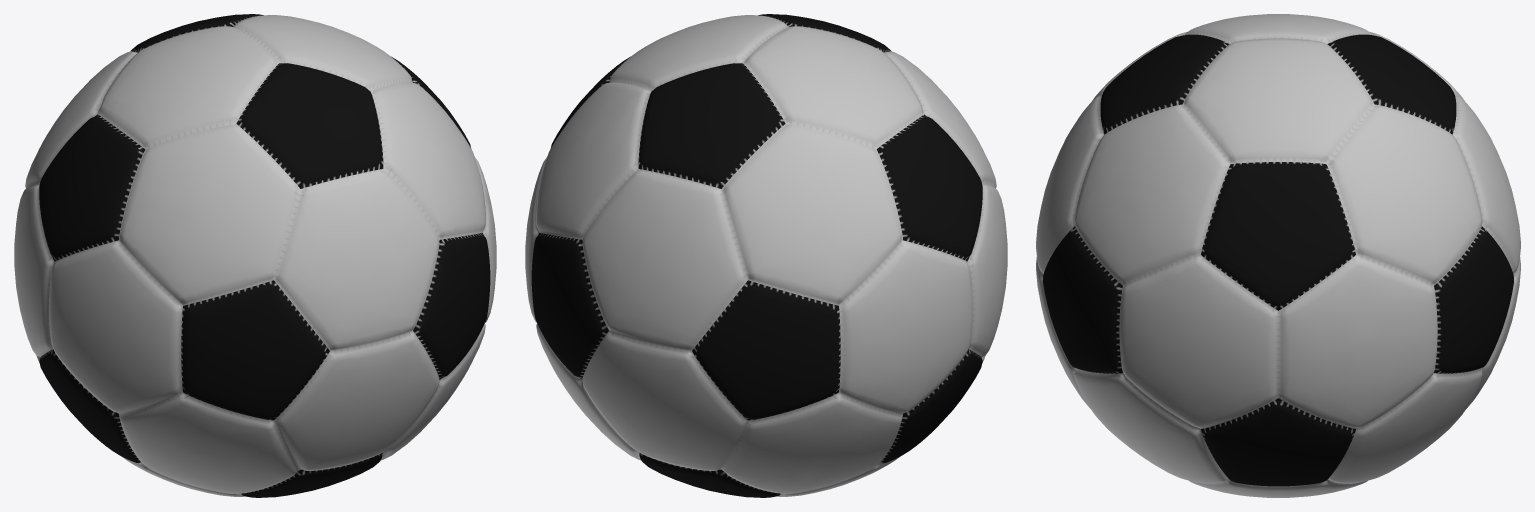
File: asset.glb
The picture shows the model from 3 angles, left to right: view 1: azimuth 30°, elevation 25°; view 2: azimuth 150°, elevation 25°; view 3: azimuth 270°, elevation 25°; orthographic projection.
Visible parts, largest first — view 1: node_id31; view 2: node_id31; view 3: node_id31.
Boxes of the visible parts, x1,y1,x2,y2 form: node_id31: (14,14,496,497); node_id31: (525,14,1007,497); node_id31: (1036,14,1520,497).
Size of the model in its own units: 0.512 by 0.512 by 0.512.
1 material, 1 textured.
